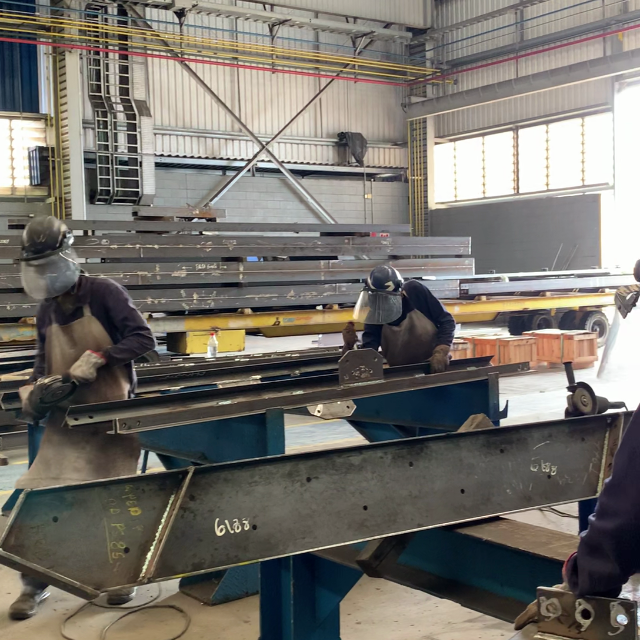face-shield: (16, 259, 80, 298), (353, 294, 404, 328)
glove: (68, 348, 106, 384), (426, 346, 452, 375)
helmet: (21, 216, 72, 252), (362, 266, 402, 292)
person: (21, 211, 158, 396), (352, 268, 458, 377)
safety-shoe: (8, 586, 54, 624), (106, 591, 133, 607)
